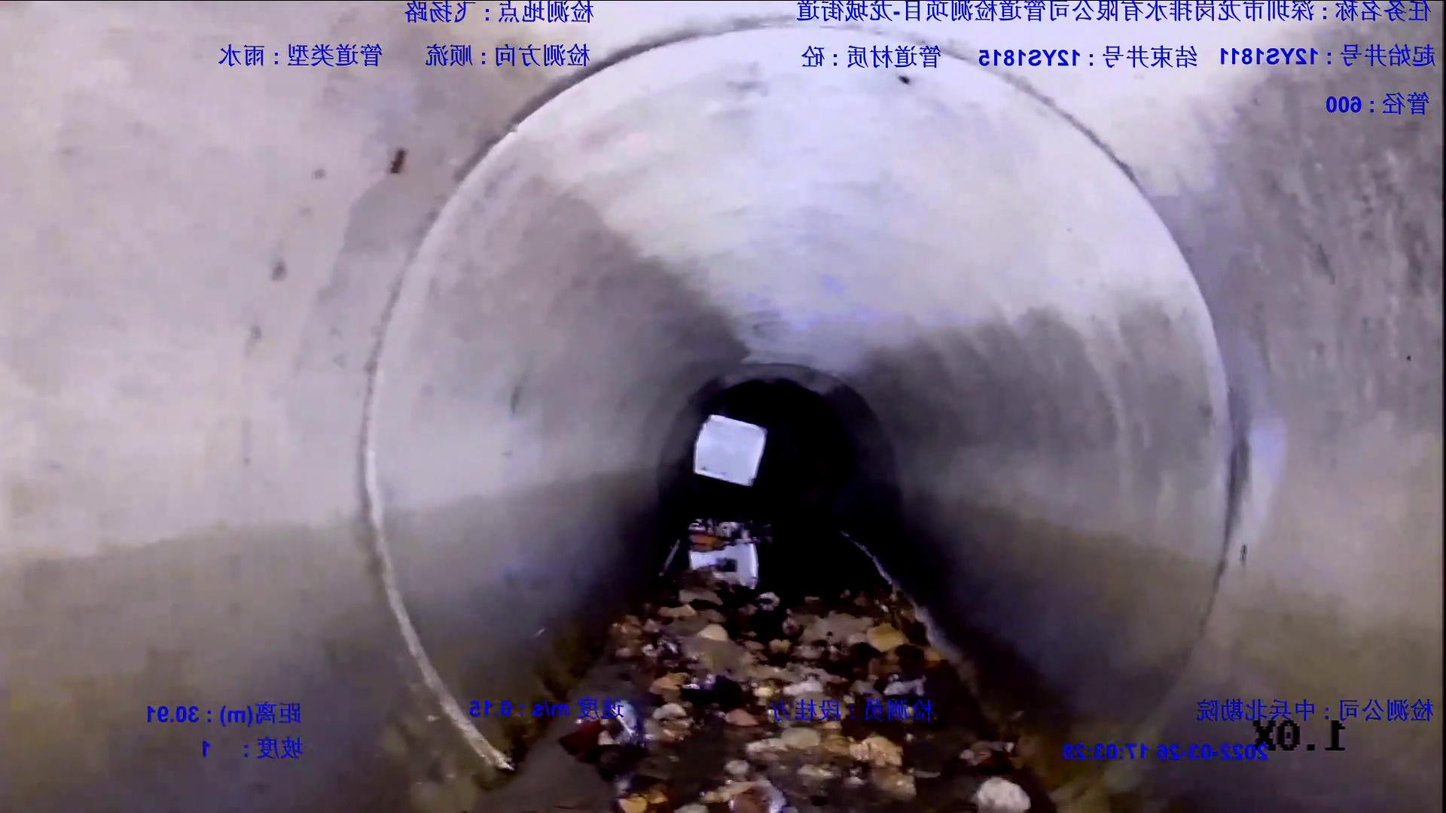CJ: (476, 520, 1108, 812)
CKTJ: (349, 20, 1245, 811)
